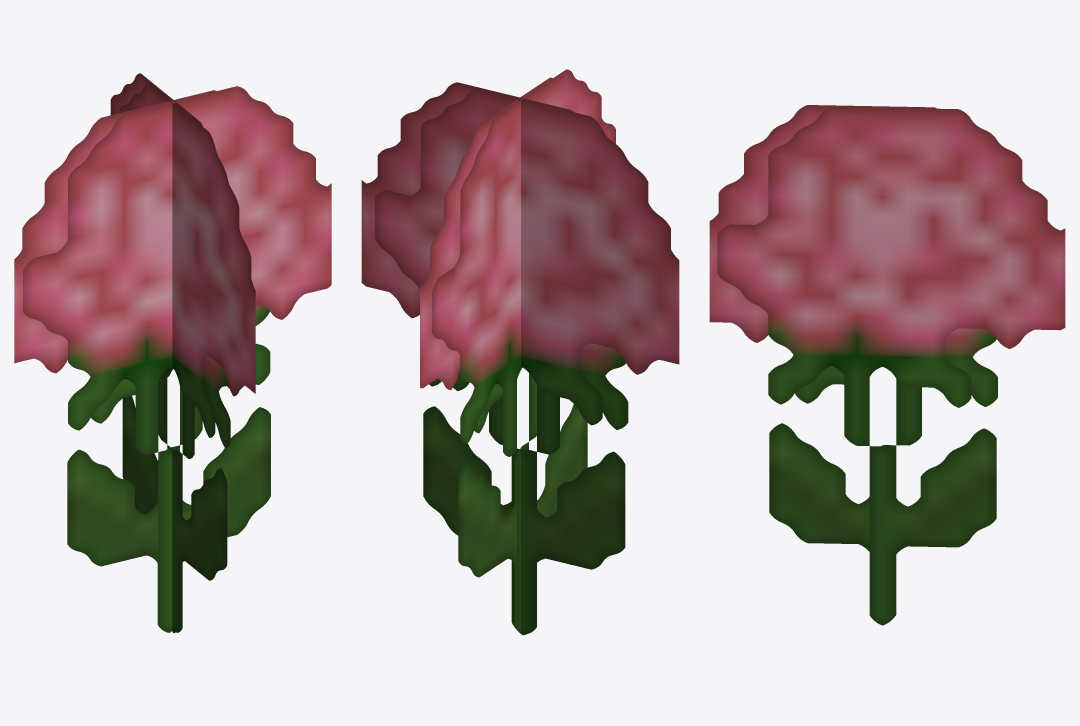
File: BGN_FLOWER 2.fbx
3 views of the same model, side by side, from view 1: azimuth 30°, elevation 25°; view 2: azimuth 150°, elevation 25°; view 3: azimuth 270°, elevation 25° (orthographic). The views are drawn at different scales.
Parts seen in each view (by area): view 1: BGN_FLOWER_2; view 2: BGN_FLOWER_2; view 3: BGN_FLOWER_2.
Part boxes in pixels (box(x1,y1,x2,y2)): BGN_FLOWER_2: box(14, 73, 331, 632); BGN_FLOWER_2: box(361, 69, 679, 635); BGN_FLOWER_2: box(709, 105, 1065, 625).
Bounding box in the file's own units: 57.55 × 97.55 × 57.51.
Materials: 1 (1 with a texture image).
